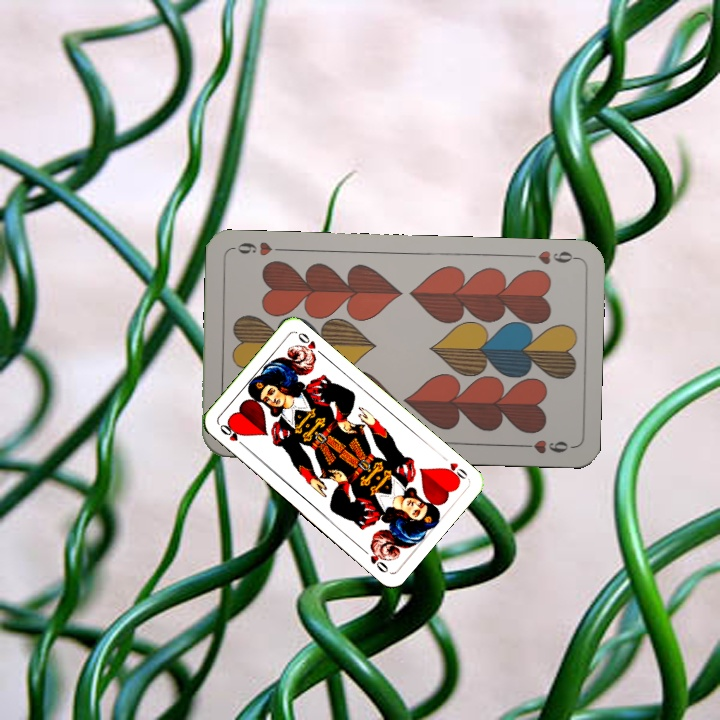H9: (520, 247, 579, 267)
HO: (437, 451, 470, 485), (216, 420, 249, 451)
